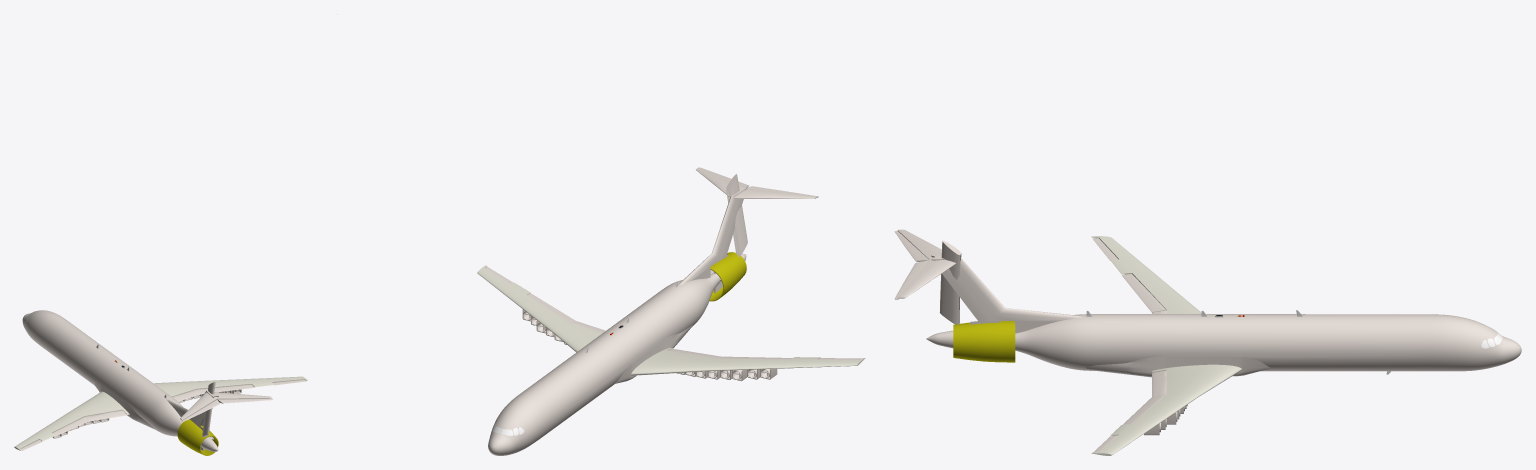
The model's file is engineHighlighted.gltf.
The picture shows the model from 3 angles, left to right: view 1: azimuth 30°, elevation 25°; view 2: azimuth 150°, elevation 25°; view 3: azimuth 270°, elevation 25°; orthographic projection. The views are drawn at different scales.
Parts seen in each view (by area): view 1: Cylinder, Cylinder.004, Cylinder.001, Cylinder.006, Cylinder.005; view 2: Cylinder, Cylinder.004, Cylinder.005, Cylinder.001, Cylinder.006, Cylinder.007; view 3: Cylinder, Cylinder.004, Cylinder.005, Cylinder.001, Cylinder.006, Cylinder.007.
Boxes of the visible parts, box(x1,y1,x2,y2) form: Cylinder: box(22, 310, 218, 451); Cylinder.004: box(14, 376, 308, 450); Cylinder.001: box(177, 419, 218, 455); Cylinder.006: box(180, 392, 272, 420); Cylinder.005: box(166, 390, 218, 426); Cylinder: box(488, 253, 746, 455); Cylinder.004: box(477, 265, 865, 375); Cylinder.005: box(678, 186, 747, 284); Cylinder.001: box(709, 252, 746, 301); Cylinder.006: box(696, 167, 817, 198); Cylinder.007: box(726, 174, 747, 256); Cylinder: box(926, 314, 1521, 377); Cylinder.004: box(1091, 236, 1241, 455); Cylinder.005: box(931, 255, 1083, 333); Cylinder.001: box(953, 321, 1015, 362); Cylinder.006: box(897, 229, 955, 298); Cylinder.007: box(939, 240, 961, 324).
Bounding box in the file's own units: 34.84 × 34.67 × 42.54.
